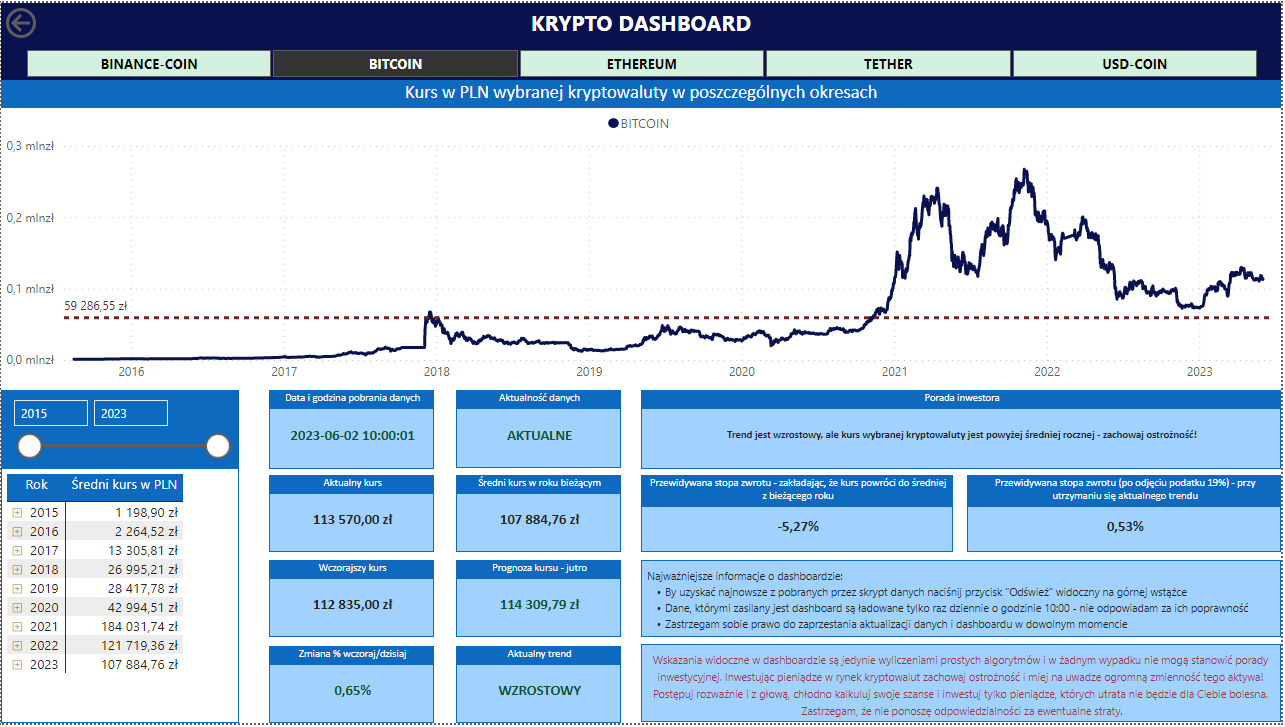

This screenshot's page, from the dashboard's own definition file:
{"tool":"powerbi","page":{"name":"KRYPTO_DASH","canvas":[1280,720],"ordinal":0},"visuals":[{"type":"lineChart","title":"Kurs w PLN wybranej kryptowaluty w poszczególnych okresach","fields":{"Category":["cryptocurrency.create_date"],"Y":["Sum(cryptocurrency.price)"],"Series":["cryptocurrency.crypto_name"]},"box":[0,76.8,1280,310.3],"z":0},{"type":"slicer","fields":{"Values":["cryptocurrency.rok"]},"box":[0,387,238,78],"z":1000},{"type":"textbox","box":[0,0,1280,39.9],"z":2000},{"type":"slicer","fields":{"Values":["cryptocurrency.crypto_name"]},"box":[0,39.9,1280,37],"z":3000},{"type":"pivotTable","fields":{"Values":["Avg(cryptocurrency.price)"],"Rows":["cryptocurrency.create_date.Odmiana.Hierarchia dat.Rok","cryptocurrency.create_date.Odmiana.Hierarchia dat.Miesiąc","cryptocurrency.create_date.Odmiana.Hierarchia dat.Dzień"]},"box":[0,465,238,255],"z":4000},{"type":"card","title":"Najnowszy kurs","fields":{"Values":["#miary.biezacy_kurs"]},"box":[267.9,471.8,165.2,77.3],"z":5000},{"type":"card","title":"Średni kurs w roku bieżącym","fields":{"Values":["#miary.sredni_kurs"]},"box":[455.1,471.8,165.2,77.3],"z":6000},{"type":"card","title":"Porada inwestora","fields":{"Values":["#miary.porada_inwestora"]},"box":[640.4,386.5,639.6,79.1],"z":7000},{"type":"card","title":"Przewidywana stopa zwrotu - zakładając, że kurs powróci do średniej z bieżącego roku","fields":{"Values":["#miary.przewidywany_zysk"]},"box":[640.4,471.8,311.9,77.3],"z":8000},{"type":"actionButton","box":[0,0,100,40],"z":9000},{"type":"textbox","box":[640,641,640,78],"z":10000},{"type":"card","title":"Aktualność danych","fields":{"Values":["#miary.flaga_aktualne_dane"]},"box":[455.1,386.5,165.2,78.2],"z":11000},{"type":"card","title":"Poprzedni kurs","fields":{"Values":["#miary.prognozowany_kurs"]},"box":[267.9,557,165.2,77.3],"z":12000},{"type":"card","title":"Zmiana % najnowszy/poprzedni","fields":{"Values":["#miary.zmiana_kursu_wczoraj_dzisiaj"]},"box":[267.9,643.1,165.2,77.3],"z":13000},{"type":"card","title":"Prognoza kursu - następny okres","fields":{"Values":["#miary.prognozowany_kurs"]},"box":[455.1,557,165.2,77.3],"z":14000},{"type":"card","title":"Aktualny trend","fields":{"Values":["#miary.aktualny_trend"]},"box":[455.1,643.1,165.2,77.3],"z":15000},{"type":"card","title":"Data i godzina pobrania danych","fields":{"Values":["#miary.data_godzina_kursu"]},"box":[267.9,387.4,165.2,78.2],"z":16000},{"type":"card","title":"Przewidywana stopa zwrotu (po odjęciu podatku 19%) - przy utrzymaniu się aktualnego trendu","fields":{"Values":["#miary.przewidywany_zysk_trend"]},"box":[966.4,471.8,313.6,77.3],"z":17000},{"type":"textbox","box":[640.4,557,639.6,77.3],"z":18000}]}

Visuals, with their boxes in screenshot pixels (x1, y1, x2, y2), scaled from the page's 1280x720 canvas onto the 1285x727 screenshot:
"Kurs w PLN wybranej kryptowaluty w poszczególnych okresach" lineChart: <region>0, 78, 1284, 391</region>
slicer - cryptocurrency.rok: <region>0, 391, 239, 470</region>
textbox: <region>0, 0, 1284, 40</region>
slicer - cryptocurrency.crypto_name: <region>0, 40, 1284, 78</region>
pivotTable - Avg(cryptocurrency.price) x cryptocurrency.create_date.Odmiana.Hierarchia dat.Rok: <region>0, 470, 239, 726</region>
"Najnowszy kurs" card: <region>269, 476, 435, 554</region>
"Średni kurs w roku bieżącym" card: <region>457, 476, 623, 554</region>
"Porada inwestora" card: <region>643, 390, 1284, 470</region>
"Przewidywana stopa zwrotu - zakładając, że kurs powróci do średniej z bieżącego roku" card: <region>643, 476, 956, 554</region>
actionButton: <region>0, 0, 100, 40</region>
textbox: <region>642, 647, 1284, 726</region>
"Aktualność danych" card: <region>457, 390, 623, 469</region>
"Poprzedni kurs" card: <region>269, 562, 435, 640</region>
"Zmiana % najnowszy/poprzedni" card: <region>269, 649, 435, 726</region>
"Prognoza kursu - następny okres" card: <region>457, 562, 623, 640</region>
"Aktualny trend" card: <region>457, 649, 623, 726</region>
"Data i godzina pobrania danych" card: <region>269, 391, 435, 470</region>
"Przewidywana stopa zwrotu (po odjęciu podatku 19%) - przy utrzymaniu się aktualnego trendu" card: <region>970, 476, 1284, 554</region>
textbox: <region>643, 562, 1284, 640</region>
